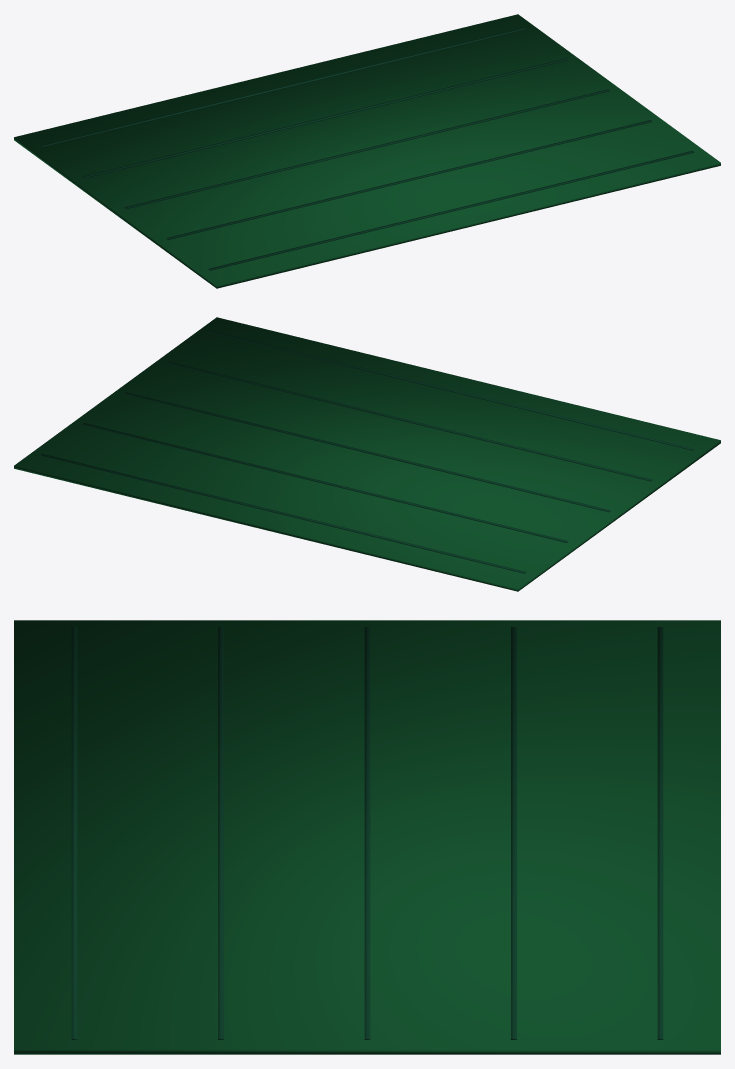
The model's file is 09_L94_TopGreenSoldermask.fbx.
3 views of the same model, one above another, from view 1: azimuth 30°, elevation 25°; view 2: azimuth 150°, elevation 25°; view 3: azimuth 270°, elevation 25° (orthographic). The views are drawn at different scales.
Parts seen in each view (by area): view 1: L94_TopGreenSoldermask; view 2: L94_TopGreenSoldermask; view 3: L94_TopGreenSoldermask.
Boxes of the visible parts, <box> form: L94_TopGreenSoldermask: <box>14,14,720,288</box>; L94_TopGreenSoldermask: <box>14,317,720,591</box>; L94_TopGreenSoldermask: <box>14,620,720,1054</box>.
Bounding box in the file's own units: 138 × 1.1 × 96.5.
